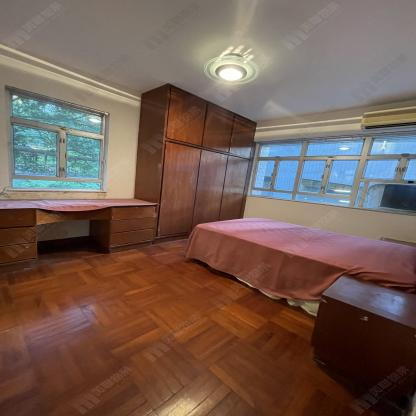AC: (361, 108, 416, 131)
Bed: (183, 216, 416, 316)
Closet: (133, 82, 258, 243)
Desk: (0, 198, 159, 273)
